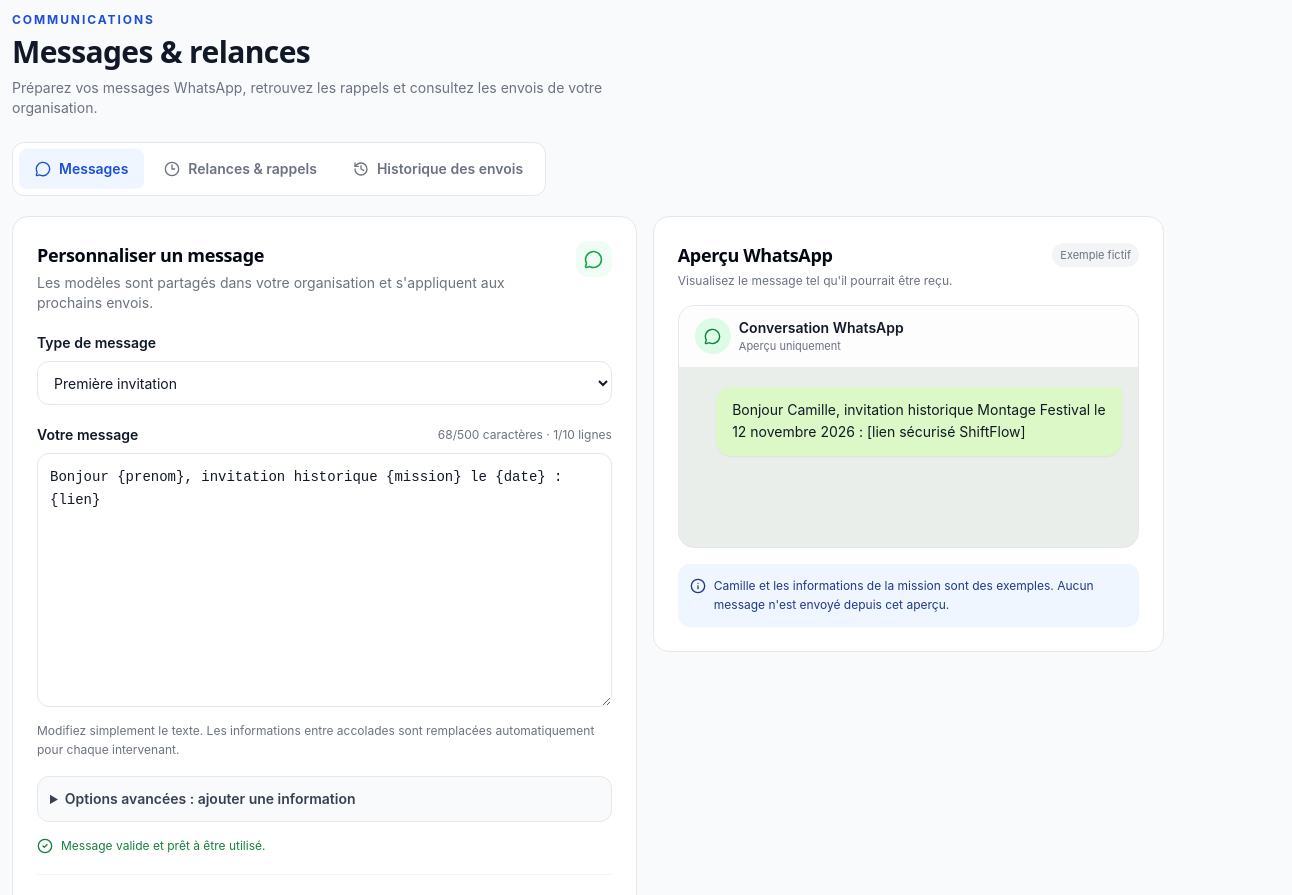
Test case: communications are separated into clear tabs with messages preview, reminders, and send history
Expected: the text box with test id "automations-whatsapp-template-input" is shown, [37,453,612,706]
Expected: the element with test id "automations-whatsapp-preview" is shown, [653,216,1164,652]
Click the tab "Relances & rappels".
click(241, 169)  # box [148,149,333,189]
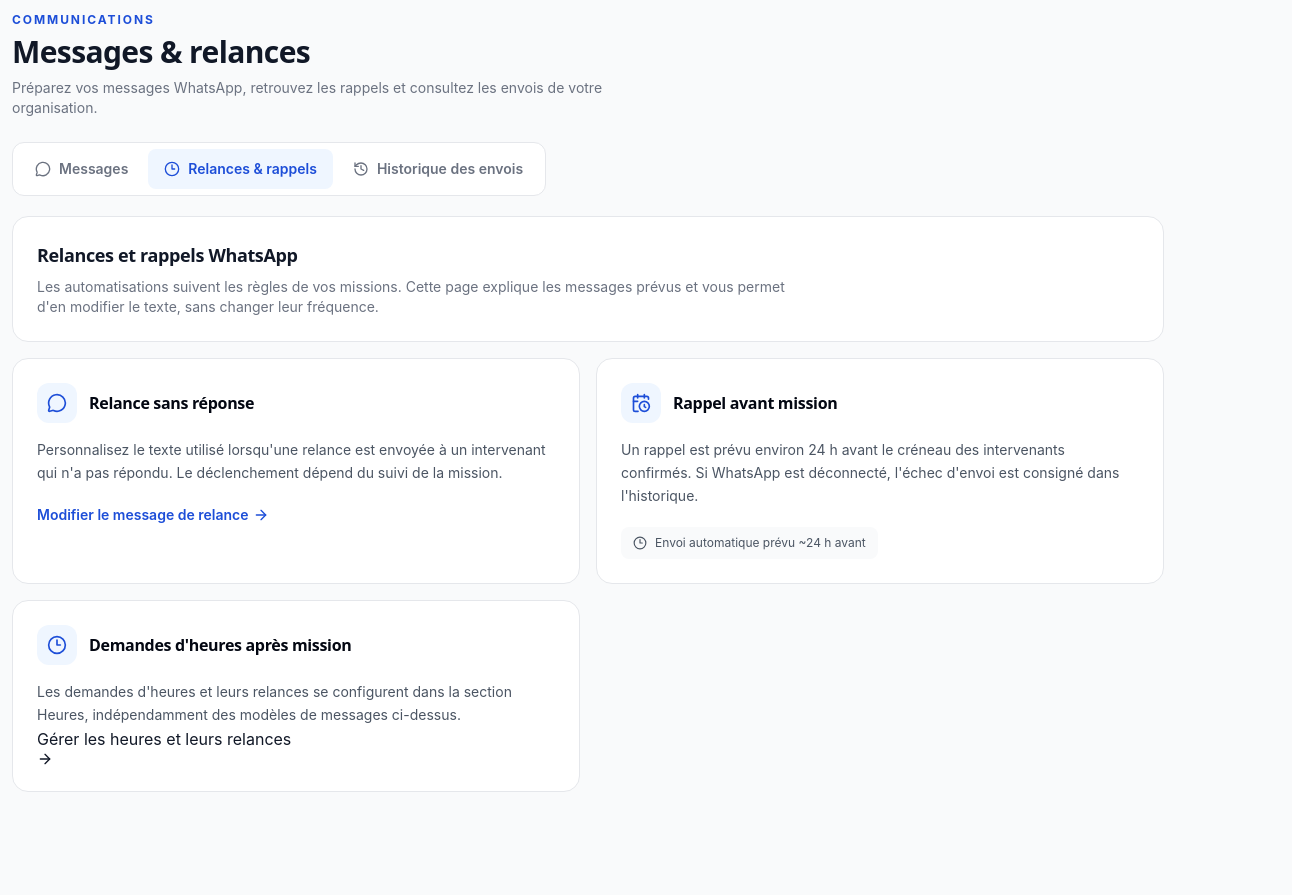
Now the text "Rappel avant mission" is shown, box [673,391,837,415]
Now the text "24 h" is shown, box [621,441,1119,504]
Click the tab "Historique des envois".
click(438, 169)  # box [337,149,539,189]
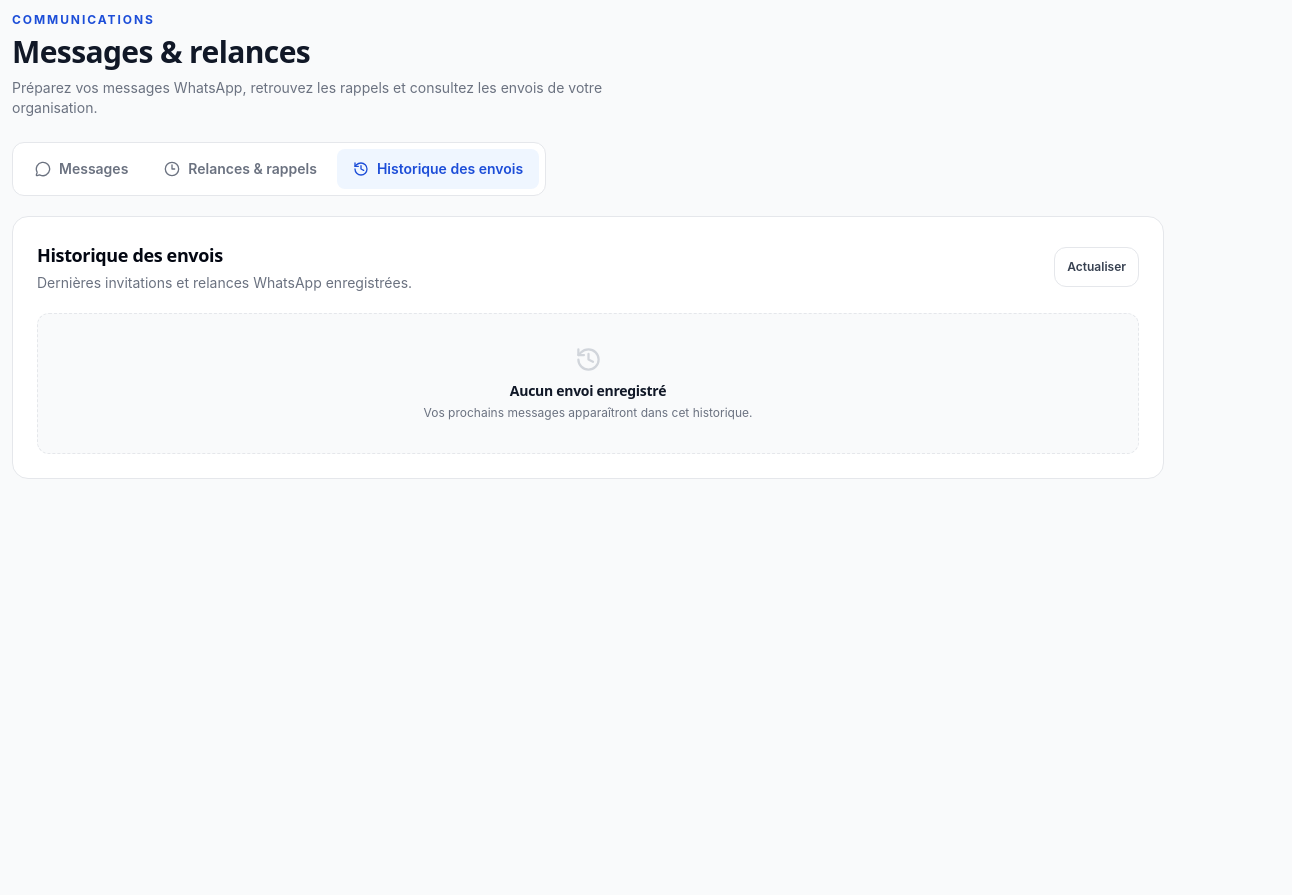
Now the text "Aucun envoi enregistré" is shown, box [510,381,666,400]
